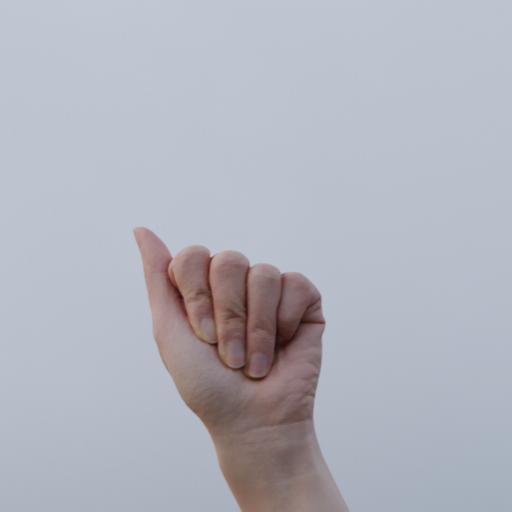A: (124, 214, 342, 430)
